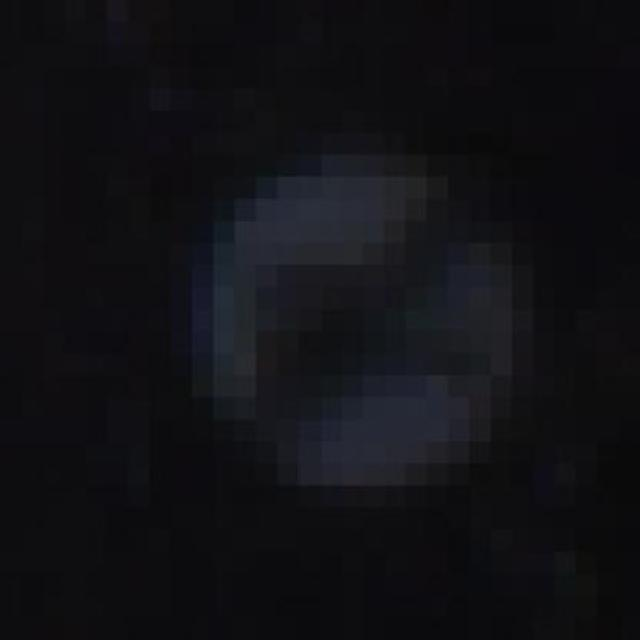Overtaking by trucks is prohibited: (170, 88, 576, 530)
